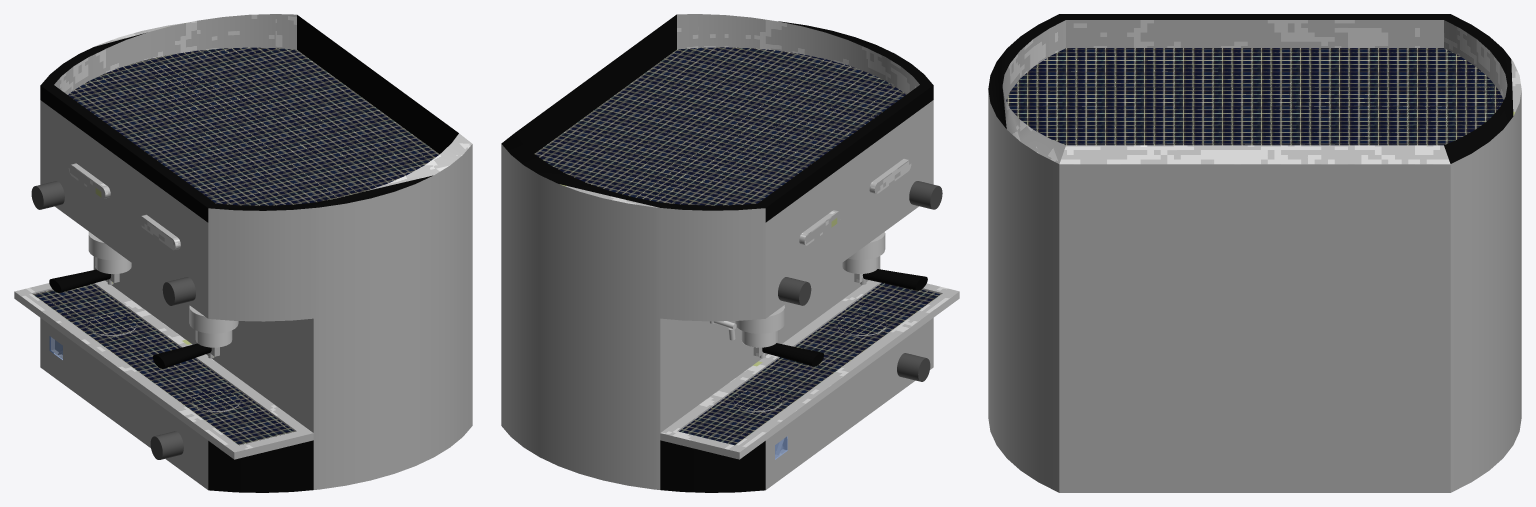
The model's file is 咖啡机3.fbx.
3 renders of one model, left to right at view 1: azimuth 30°, elevation 25°; view 2: azimuth 150°, elevation 25°; view 3: azimuth 270°, elevation 25°, orthographic. The views are drawn at different scales.
Visible parts, largest first — view 1: Group2; view 2: Group2; view 3: Group2.
Boxes of the visible parts, x1=… form: Group2: x1=14, y1=14, x2=472, y2=492; Group2: x1=501, y1=14, x2=959, y2=492; Group2: x1=988, y1=14, x2=1521, y2=492.
Size of the model in its own units: 540 by 530 by 750.
